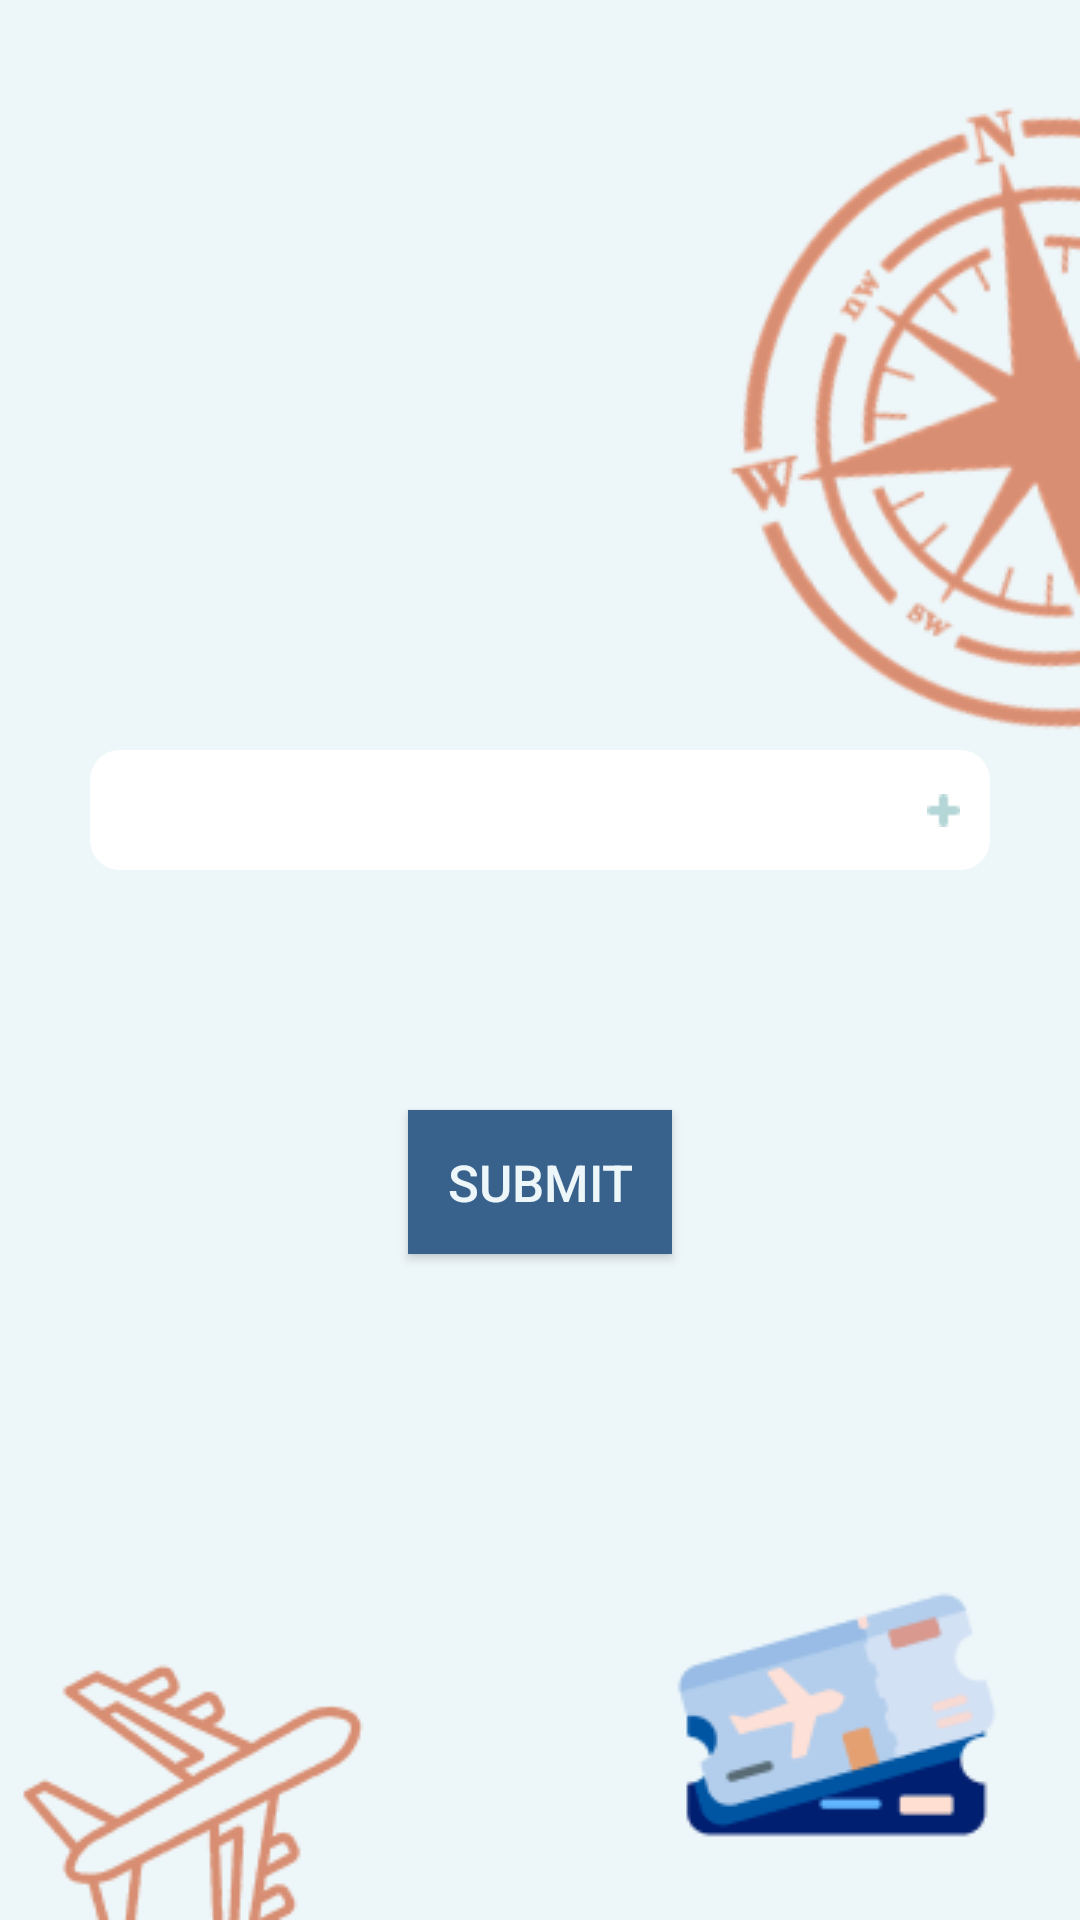

Screen size 1080*1920. Icon name, then its box in pixels as (x1, y1, x2, y2):
plus: (927, 794, 960, 827)
